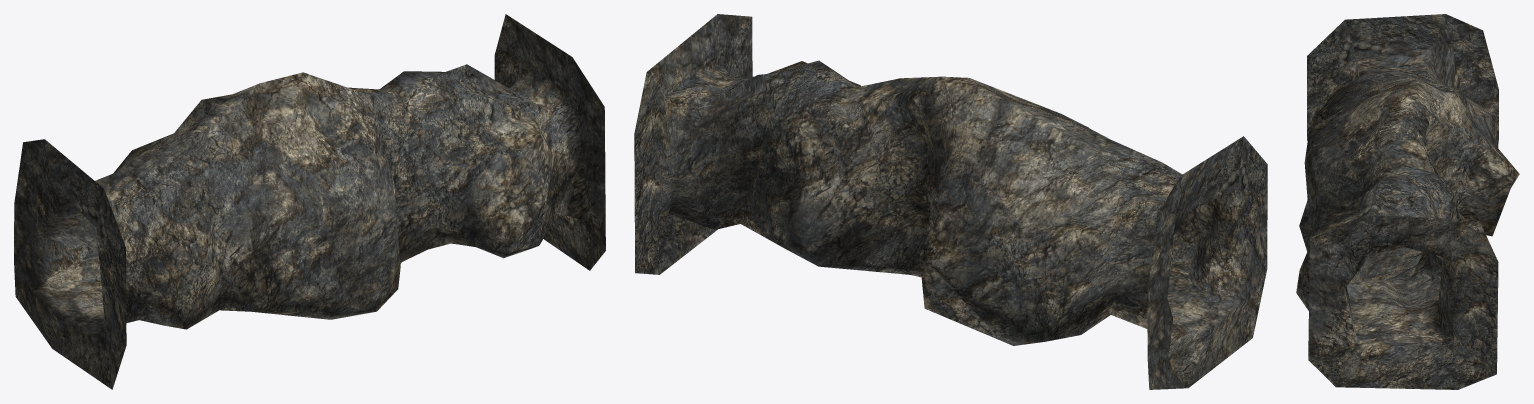
File: Module3_LOD2.fbx
The picture shows the model from 3 angles, left to right: view 1: azimuth 30°, elevation 25°; view 2: azimuth 150°, elevation 25°; view 3: azimuth 270°, elevation 25°; orthographic projection. The views are drawn at different scales.
Visible parts, largest first — view 1: cave_el3_1400_Group64458; view 2: cave_el3_1400_Group64458; view 3: cave_el3_1400_Group64458.
Boxes of the visible parts, x1,y1,x2,y2 form: cave_el3_1400_Group64458: (14, 14, 605, 389); cave_el3_1400_Group64458: (634, 14, 1267, 389); cave_el3_1400_Group64458: (1296, 14, 1519, 389).
Bounding box in the file's own units: 20.54 × 9.04 × 9.48.
